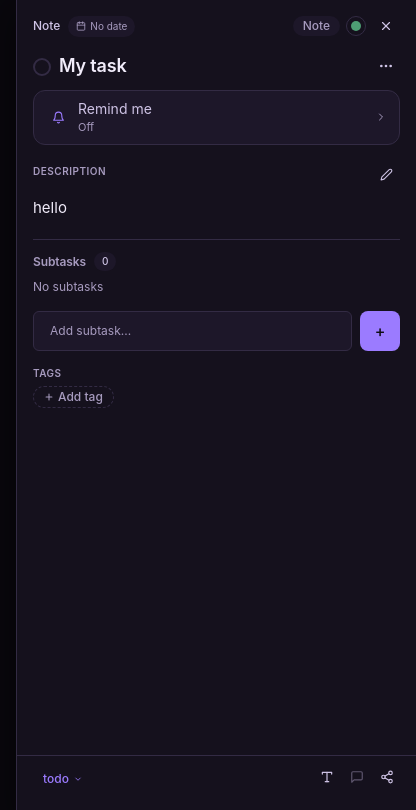
Scenario: TaskDetailDrawer description editing › opens the description editor with the formatting toolbar from the footer T
The width and height of the screenshot is (416, 810).
Click the button named "Edit description formatting".
click(327, 777)  # box [314,764,340,790]
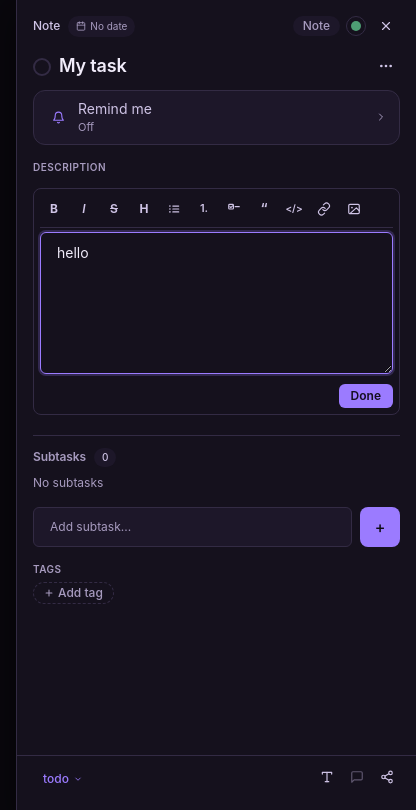
Now the text box with placeholder "Write a description (markdown supported)…" is shown, box [40,232,393,374]
Now the element named "Formatting" is shown, box [40,194,393,228]
Now the button named "Bold" is shown, box [40,194,68,222]
